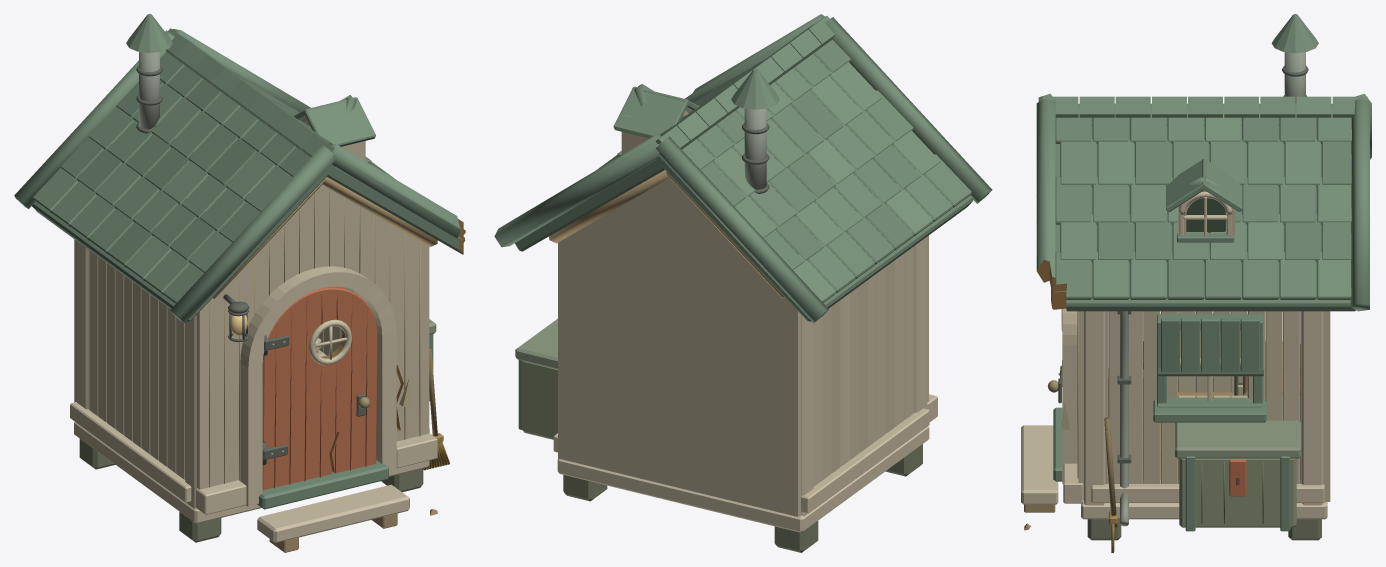
The picture shows the model from 3 angles, left to right: view 1: azimuth 30°, elevation 25°; view 2: azimuth 150°, elevation 25°; view 3: azimuth 270°, elevation 25°; orthographic projection. The views are drawn at different scales.
Parts seen in each view (by area): view 1: asset_root_geometry, roof_assembly, door_assembly; view 2: asset_root_geometry, roof_assembly; view 3: roof_assembly, asset_root_geometry, window_awning.
Part boxes in pixels (x1,y1,x2,y2): asset_root_geometry: (70,184,449,552); roof_assembly: (14,14,465,323); door_assembly: (262,286,377,489); asset_root_geometry: (515,178,937,552); roof_assembly: (494,14,992,323); roof_assembly: (1036,14,1371,311); asset_root_geometry: (1021,308,1330,552); window_awning: (1157,318,1263,376).
Size of the model in its own units: 0.3096 by 0.3915 by 0.2815.
